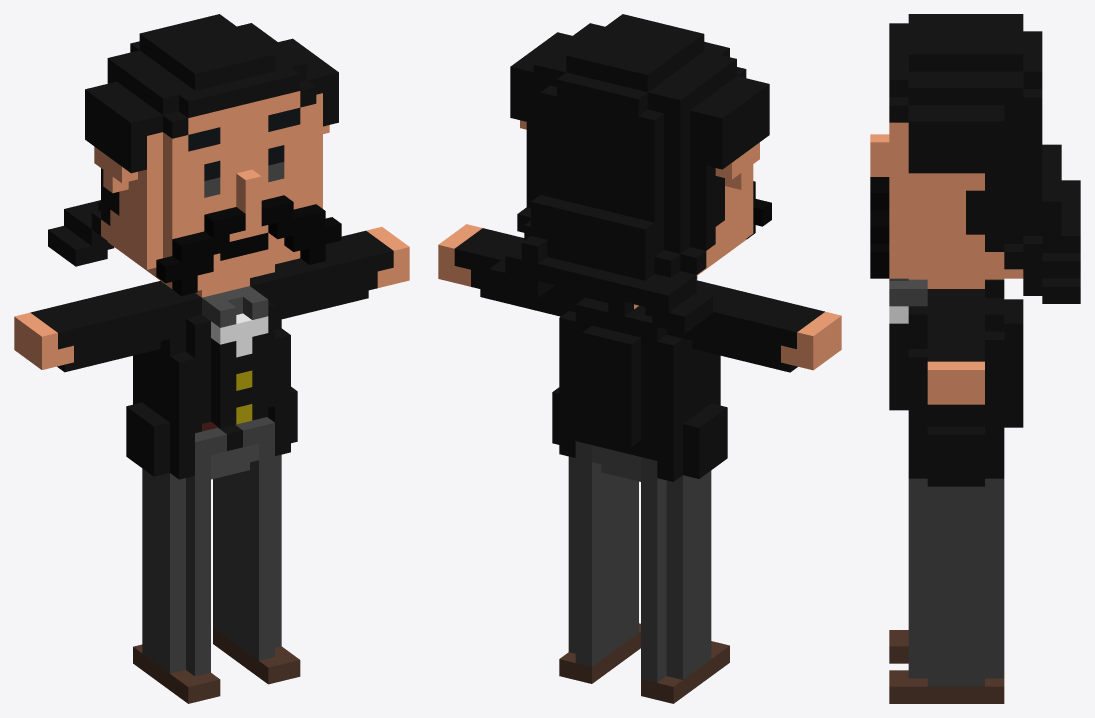
File: ookubotosimiti.glb
The picture shows the model from 3 angles, left to right: view 1: azimuth 30°, elevation 25°; view 2: azimuth 150°, elevation 25°; view 3: azimuth 270°, elevation 25°; orthographic projection. The views are drawn at different scales.
Parts seen in each view (by area): view 1: Untitled; view 2: Untitled; view 3: Untitled.
Part boxes in pixels (bbox=[...]): Untitled: bbox=[14, 14, 409, 703]; Untitled: bbox=[438, 14, 841, 703]; Untitled: bbox=[870, 14, 1080, 703].
Bounding box in the file's own units: 2.3 × 3.7 × 1.1.
Materials: 1 (1 with a texture image).
